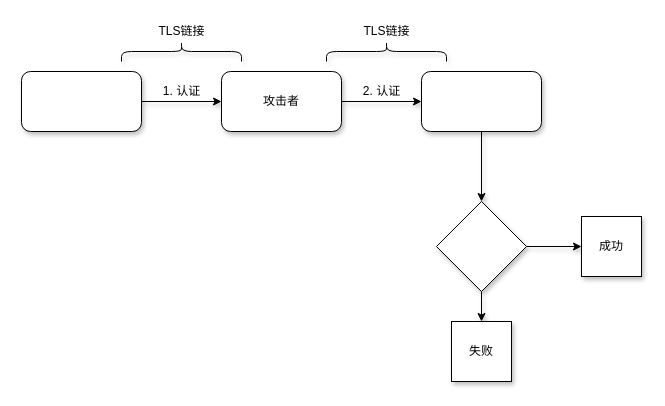
The diagram is 665 pixels wide and 406 high, and some of its shapes have lost their labels. Each missing label, with the centre of its shape:
"Client" goes at [82,102].
"Server" goes at [482,102].
"检查 TLS Binding" goes at [482,247].
